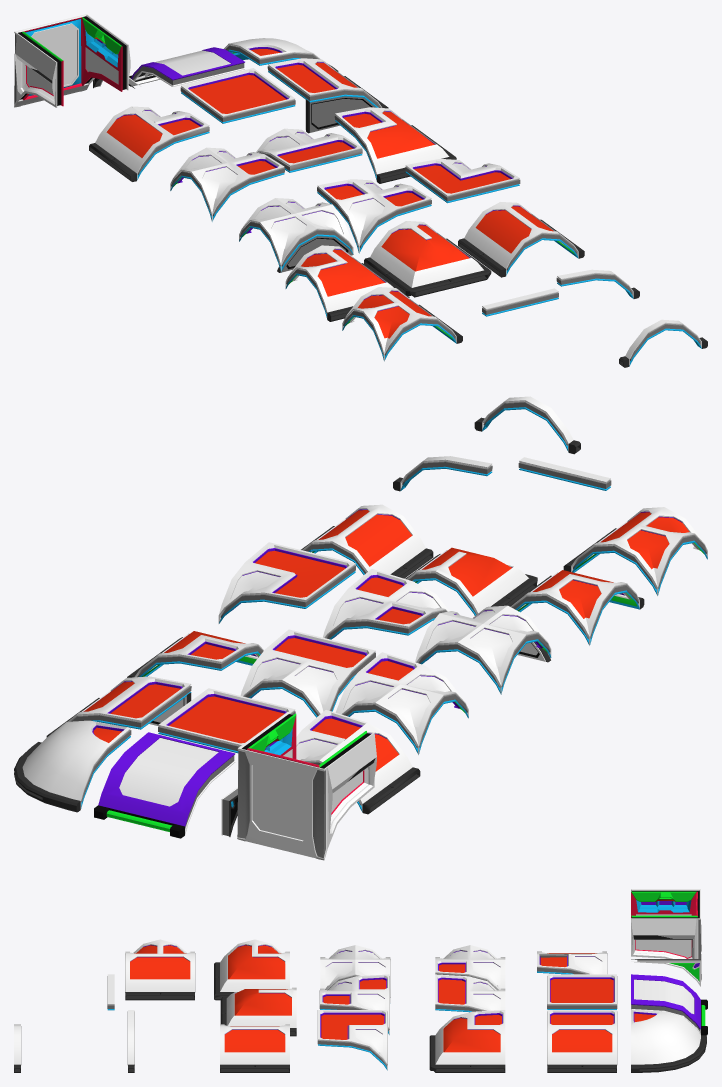
The model's file is SpaceBase_Roof00.fbx.
3 views of the same model, one above another, from view 1: azimuth 30°, elevation 25°; view 2: azimuth 150°, elevation 25°; view 3: azimuth 270°, elevation 25° (orthographic). The views are drawn at different scales.
Parts seen in each view (by area): view 1: Box027, Box030, Box025, Box009, Box013, Box029, Box012, Box031, Box008, Box024, Box032, Box010 (+10 smaller); view 2: Box027, Box011, Box024, Box005, Box010, Box029, Box013, Box012, Box026, Box032, Box008, Box025 (+8 smaller); view 3: Box027, Box007, Box009, Box005, Box032, Box031, Box013, Box010, Box030, Box008, Box011, Box012 (+8 smaller).
Boxes of the visible parts, x1=… form: Box027: x1=14, y1=14, x2=130, y2=107; Box030: x1=364, y1=221, x2=491, y2=297; Box025: x1=89, y1=106, x2=209, y2=181; Box009: x1=334, y1=107, x2=456, y2=183; Box013: x1=458, y1=202, x2=584, y2=277; Box029: x1=239, y1=198, x2=353, y2=271; Box012: x1=317, y1=179, x2=431, y2=253; Box031: x1=285, y1=245, x2=409, y2=321; Box008: x1=180, y1=68, x2=295, y2=123; Box024: x1=170, y1=147, x2=284, y2=221; Box032: x1=342, y1=287, x2=462, y2=361; Box010: x1=405, y1=159, x2=520, y2=203; Box027: x1=237, y1=711, x2=376, y2=860; Box011: x1=240, y1=629, x2=375, y2=717; Box024: x1=335, y1=652, x2=468, y2=754; Box005: x1=14, y1=720, x2=131, y2=812; Box010: x1=218, y1=542, x2=355, y2=623; Box029: x1=415, y1=605, x2=551, y2=694; Box013: x1=301, y1=504, x2=433, y2=578; Box012: x1=323, y1=569, x2=448, y2=639; Box026: x1=94, y1=732, x2=235, y2=838; Box032: x1=563, y1=507, x2=707, y2=596; Box008: x1=158, y1=688, x2=295, y2=753; Box025: x1=296, y1=710, x2=420, y2=814; Box027: x1=631, y1=889, x2=701, y2=981; Box007: x1=547, y1=1010, x2=617, y2=1072; Box009: x1=429, y1=1010, x2=505, y2=1072; Box005: x1=631, y1=1009, x2=706, y2=1072; Box032: x1=125, y1=939, x2=195, y2=1000; Box031: x1=214, y1=939, x2=289, y2=1000; Box013: x1=220, y1=1024, x2=289, y2=1072; Box010: x1=317, y1=1010, x2=387, y2=1070; Box030: x1=220, y1=987, x2=296, y2=1036; Box008: x1=547, y1=974, x2=617, y2=1009; Box011: x1=435, y1=974, x2=505, y2=1012; Box012: x1=319, y1=974, x2=389, y2=1034.
Size of the model in its own units: 197 by 55.52 by 496.
